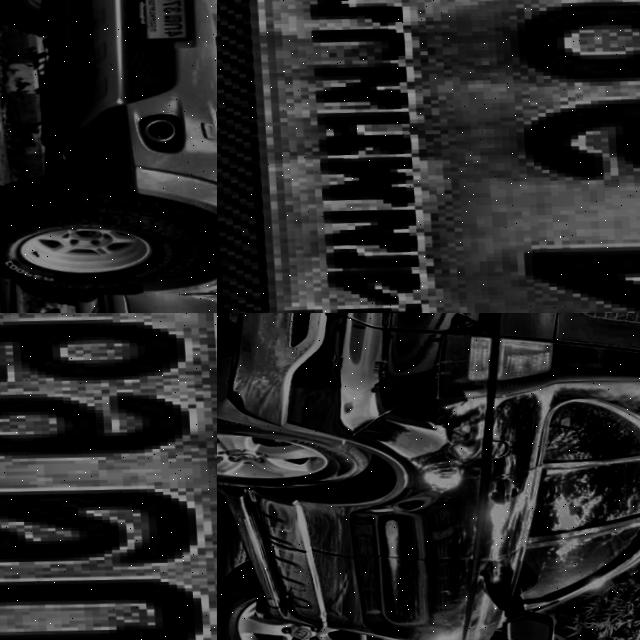license-plate: (217, 0, 640, 313), (0, 313, 217, 640), (122, 0, 207, 47)
